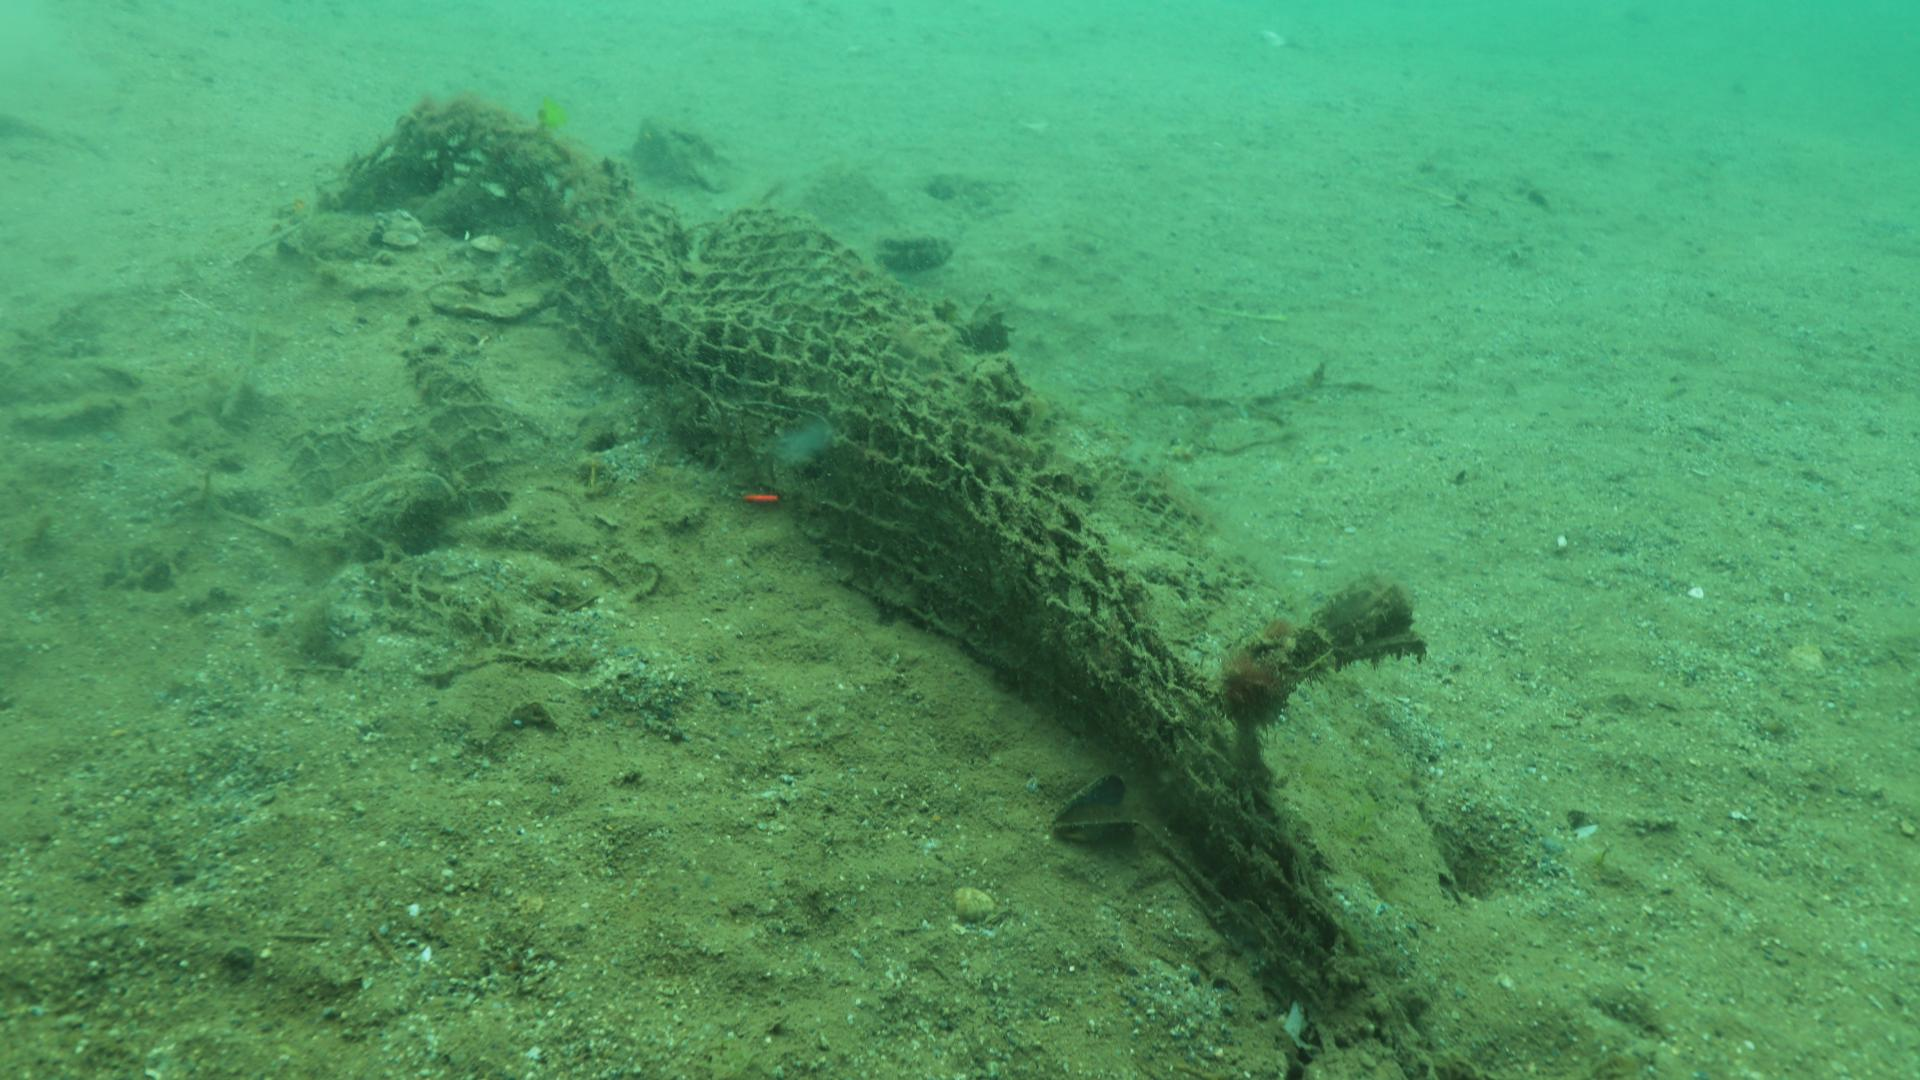fish net: (520, 145, 1168, 731)
